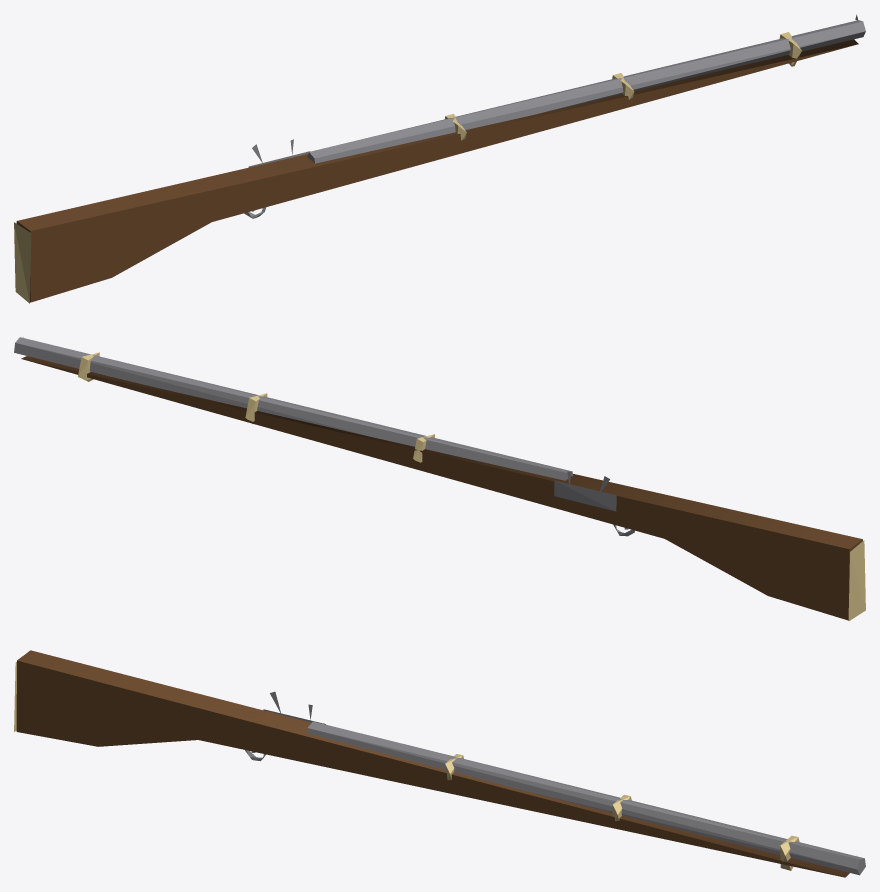
File: jazayer_musket_lod2.glb
3 renders of one model, top to bottom at view 1: azimuth 30°, elevation 25°; view 2: azimuth 150°, elevation 25°; view 3: azimuth 330°, elevation 25°, orthographic.
Visible parts, largest first — view 1: m; view 2: m; view 3: m.
Boxes of the visible parts, x1,y1,x2,y2 form: m: [14, 14, 865, 303]; m: [14, 337, 865, 620]; m: [14, 650, 865, 877].
Size of the model in its own units: 1.75 by 0.1749 by 0.0644.
Materials: 3 (1 with a texture image).
